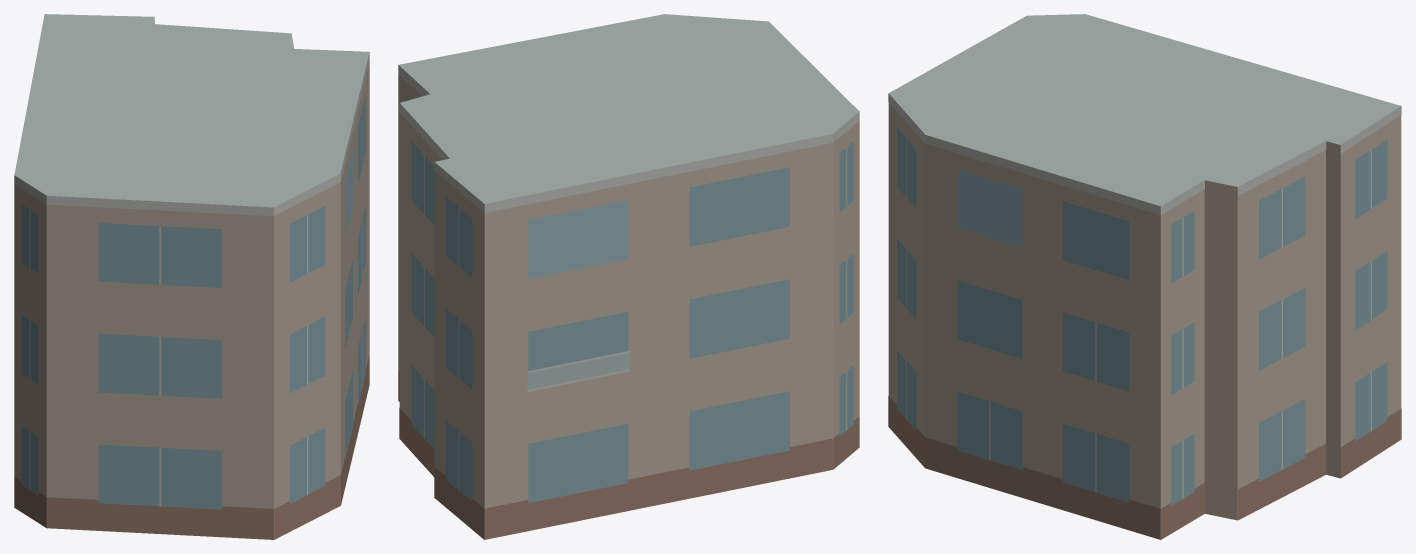
The model's file is survey-upis-32965079.glb.
3 renders of one model, left to right at view 1: azimuth 30°, elevation 25°; view 2: azimuth 150°, elevation 25°; view 3: azimuth 270°, elevation 25°, orthographic.
Visible parts, largest first — view 1: survey-upis-32965079.tmp; view 2: survey-upis-32965079.tmp; view 3: survey-upis-32965079.tmp.
Part boxes in pixels (x1,y1,x2,y2): survey-upis-32965079.tmp: (14, 14, 369, 539); survey-upis-32965079.tmp: (398, 14, 859, 539); survey-upis-32965079.tmp: (888, 14, 1401, 539).
Size of the model in its own units: 11.32 by 9.15 by 12.76.
